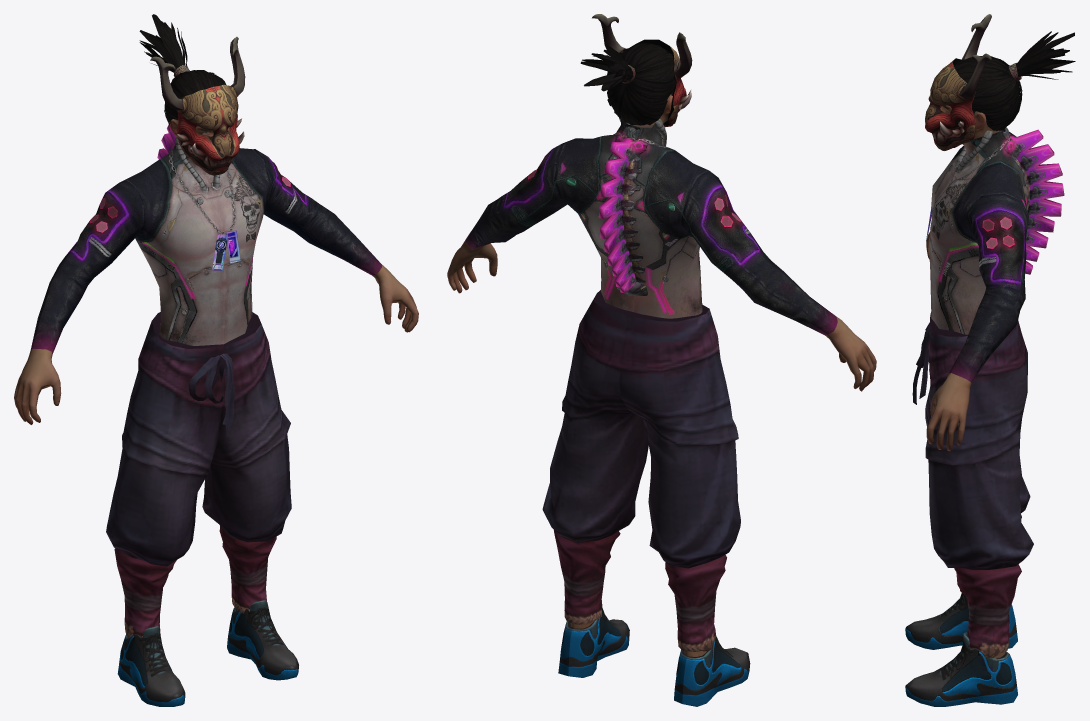
Rendered from romero.glb.
3 renders of one model, left to right at view 1: azimuth 30°, elevation 25°; view 2: azimuth 150°, elevation 25°; view 3: azimuth 270°, elevation 25°, orthographic. The views are drawn at different scales.
Parts seen in each view (by area): view 1: romero; view 2: romero; view 3: romero.
Boxes of the visible parts, left/top/right/bottom form: romero: left=14, top=14, right=418, bottom=706; romero: left=447, top=14, right=876, bottom=706; romero: left=905, top=14, right=1075, bottom=706.
Size of the model in its own units: 0.6322 by 0.9501 by 0.23.
Materials: 8 (8 with a texture image).
